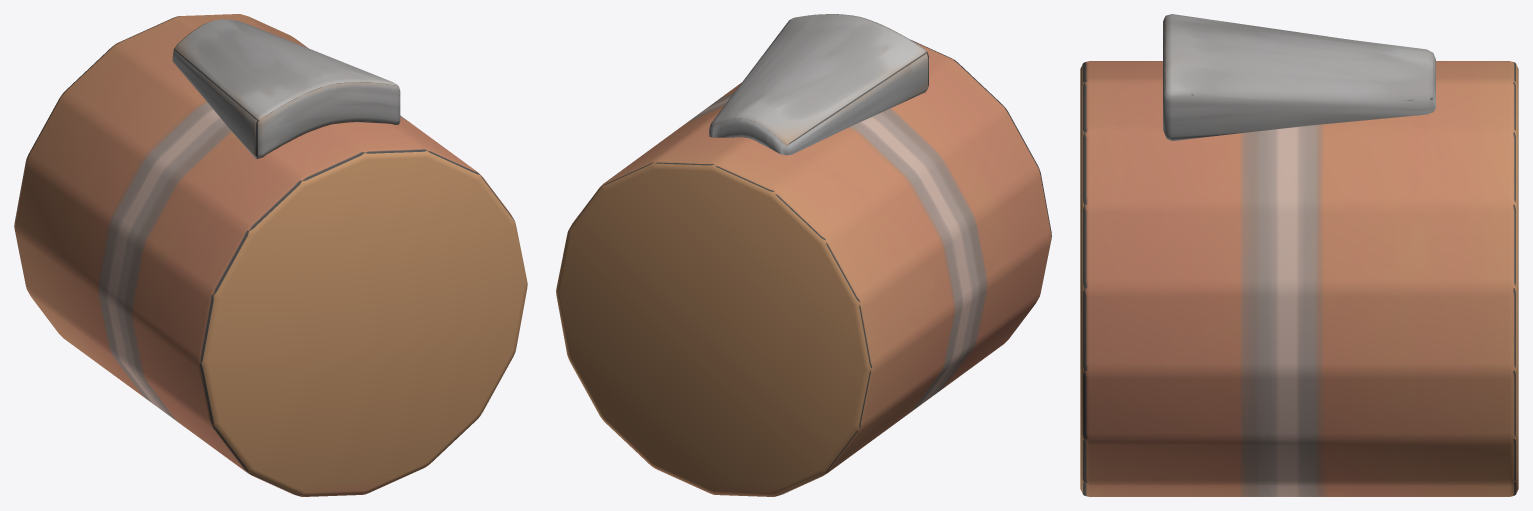
File: Wrist Band.fbx
3 views of the same model, side by side, from view 1: azimuth 30°, elevation 25°; view 2: azimuth 150°, elevation 25°; view 3: azimuth 270°, elevation 25° (orthographic). The views are drawn at different scales.
Parts seen in each view (by area): view 1: Wrist Band; view 2: Wrist Band; view 3: Wrist Band.
Boxes of the visible parts, left/top/right/bottom form: Wrist Band: left=14, top=14, right=527, bottom=496; Wrist Band: left=556, top=14, right=1051, bottom=496; Wrist Band: left=1080, top=14, right=1518, bottom=496.
Bounding box in the file's own units: 31.96 × 35.94 × 32.11.
1 material, 1 textured.
